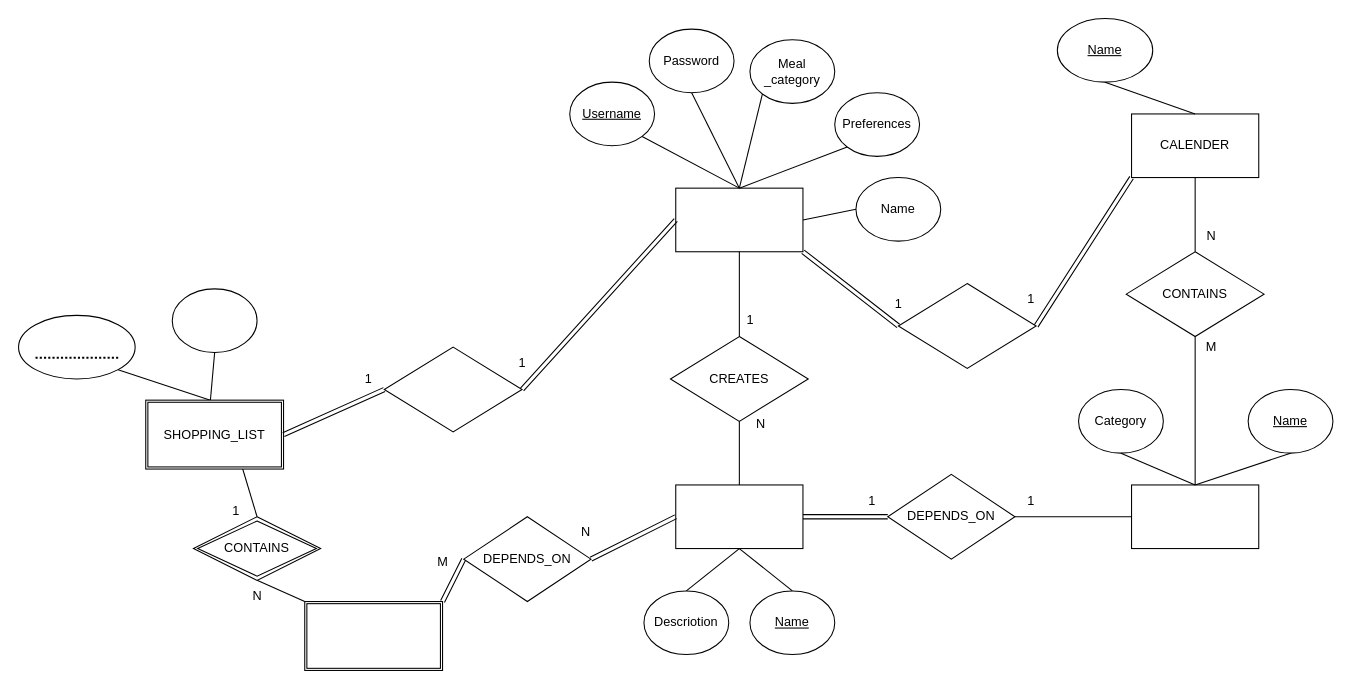
Some shapes in this 1351 by 689 pixel diagram are drawn without their labels. The shapes that lost their labels are listed below. From the top down, each one's box as (x1, y1, x2, y2) in pixels, then its label:
(675, 187, 803, 252): USER
(171, 288, 257, 352): Items
(897, 282, 1036, 368): HAS
(17, 314, 135, 379): User_Shopping_list
(383, 346, 522, 432): IS_OWNED_BY
(675, 484, 803, 549): RECIPES
(1130, 484, 1259, 549): MEAL
(304, 600, 443, 670): INGREDIENTS
